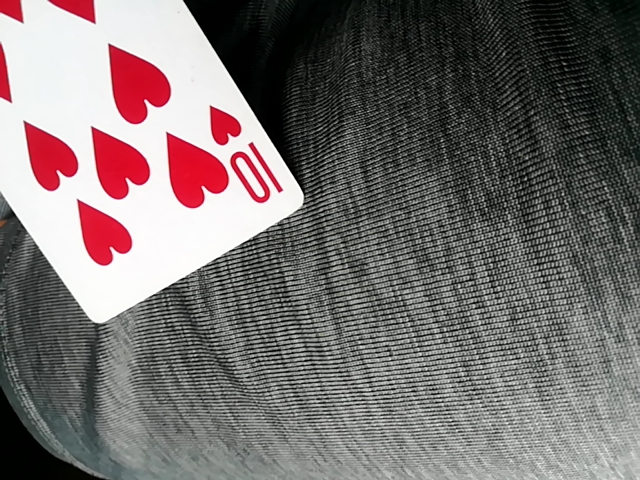hx 10: (0, 2, 307, 330)
